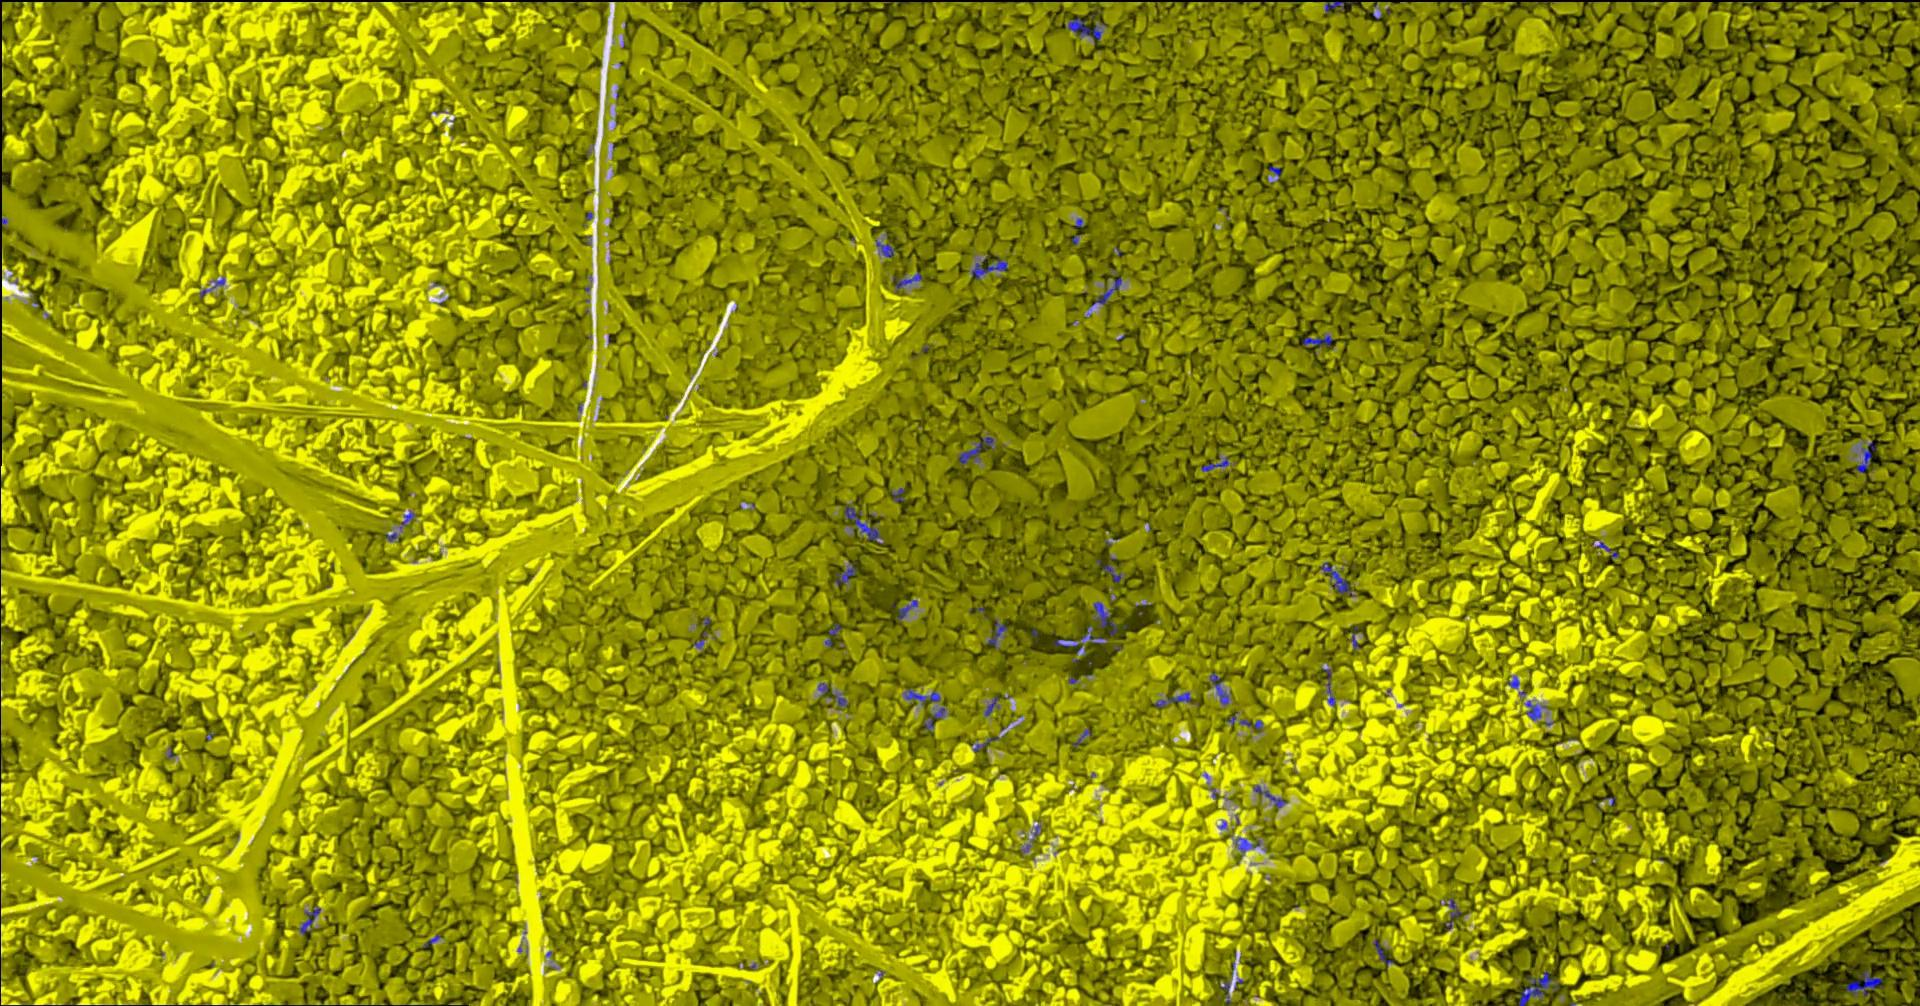ant: (844, 506, 883, 542), (1520, 970, 1561, 1005), (1322, 561, 1356, 596), (1069, 17, 1109, 44), (960, 436, 996, 465), (1848, 970, 1883, 997), (1092, 277, 1123, 306), (973, 255, 1010, 279), (1095, 601, 1119, 635), (1255, 784, 1289, 807), (819, 682, 850, 708), (1055, 638, 1086, 662), (1857, 441, 1878, 473), (1441, 898, 1463, 930), (1211, 671, 1232, 704), (1228, 711, 1263, 729), (301, 906, 323, 935), (1156, 691, 1192, 708), (988, 619, 1010, 647), (1374, 937, 1396, 965), (894, 271, 923, 291), (1098, 559, 1123, 582), (201, 276, 226, 297), (1323, 667, 1337, 705), (836, 561, 857, 586), (905, 688, 941, 702), (924, 708, 946, 730), (1594, 540, 1620, 558), (1081, 625, 1107, 643), (1203, 456, 1233, 471), (1236, 837, 1261, 855), (898, 600, 919, 620), (1526, 700, 1549, 719), (825, 622, 843, 647), (973, 735, 1001, 751), (1304, 334, 1335, 347), (877, 239, 897, 257), (1326, 0, 1351, 11), (985, 696, 1001, 715), (1220, 981, 1232, 1005), (893, 486, 905, 500)
